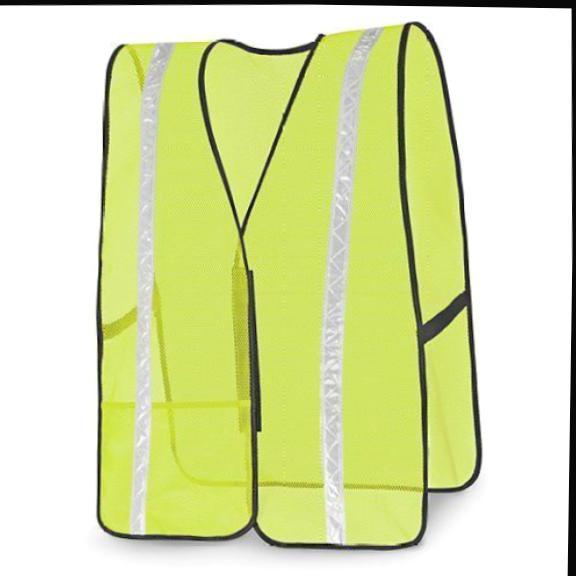safety_vest: (85, 9, 490, 556)
